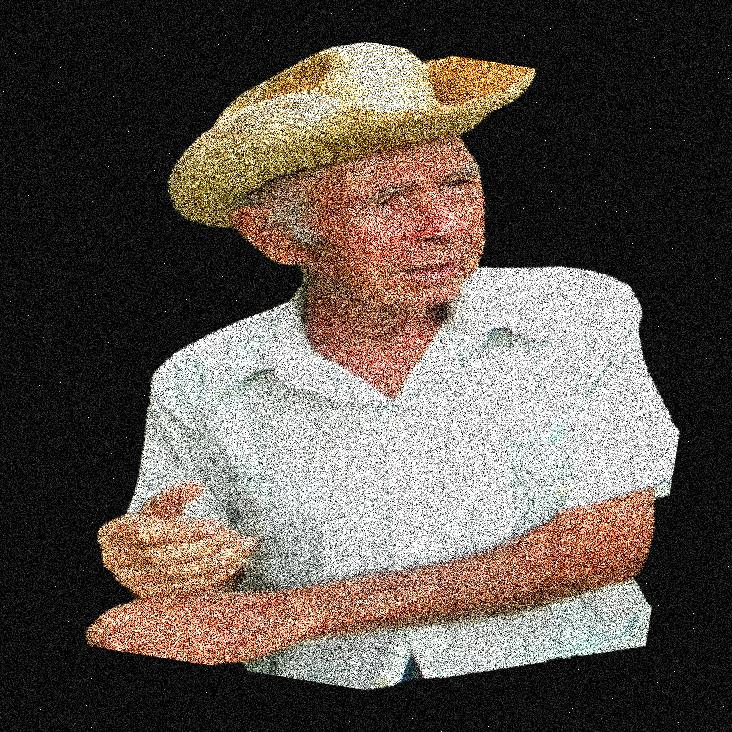Pessoa: (216, 0, 596, 731)
